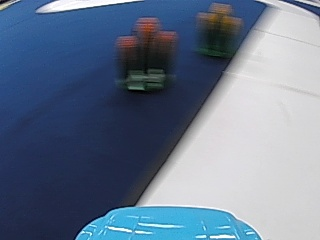corn: (118, 14, 173, 93), (197, 1, 241, 58)
